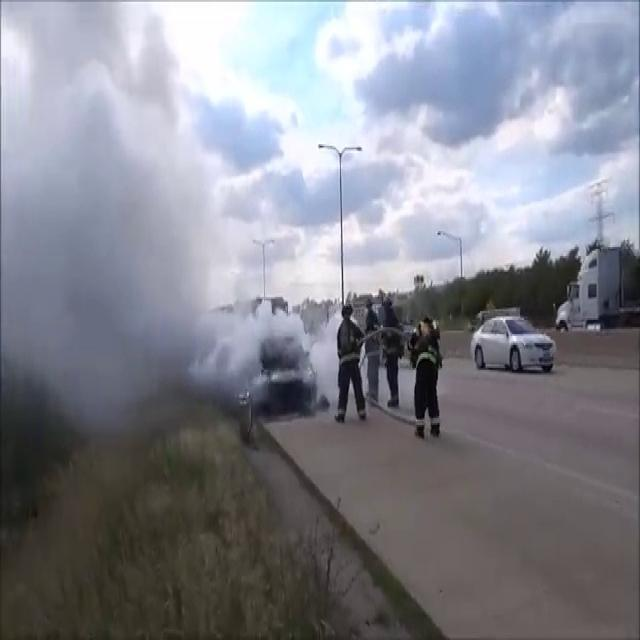Smoke: (2, 2, 330, 420)
